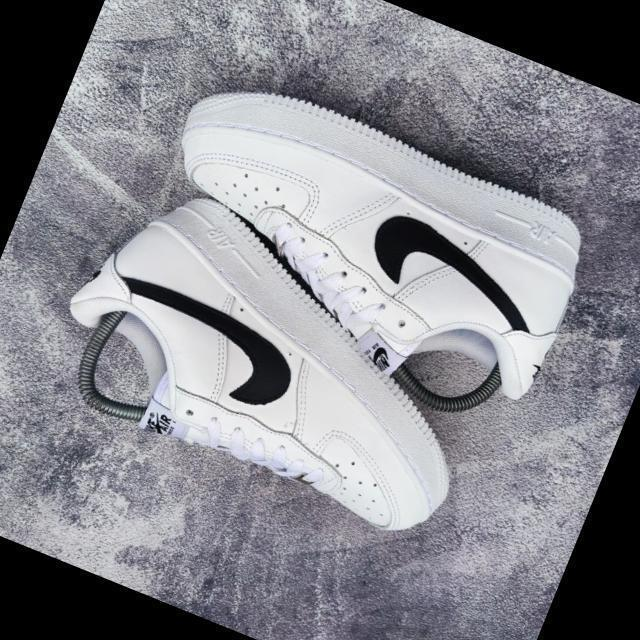nike fake air force: (19, 157, 520, 548), (117, 49, 607, 440)
